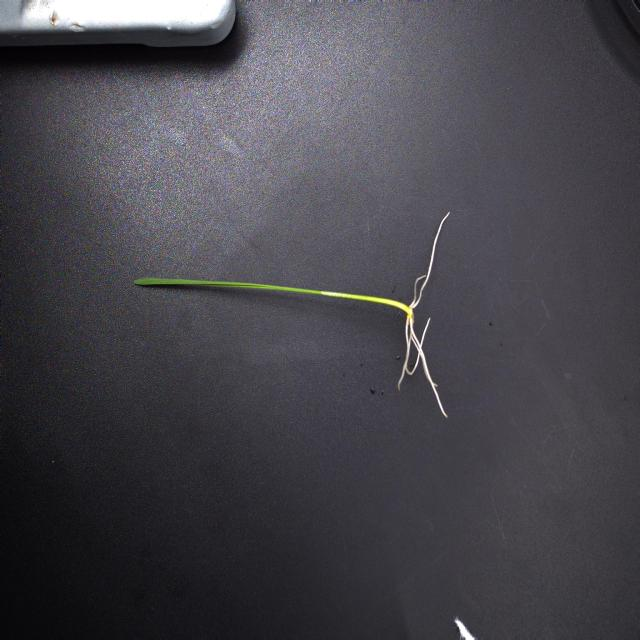leaf: (132, 276, 196, 288)
root: (398, 314, 447, 417), (409, 212, 450, 313)
stem: (134, 278, 412, 317)
